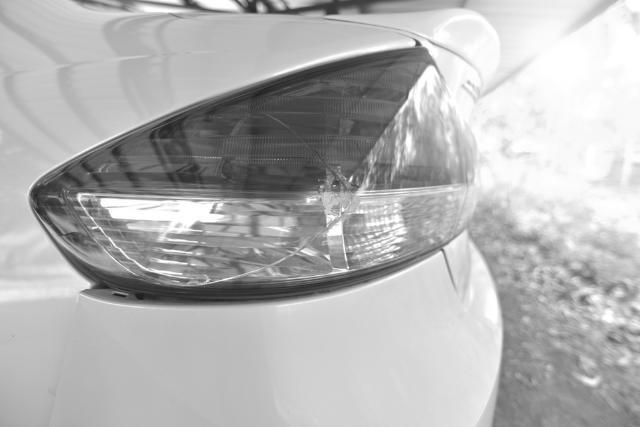Light: (62, 55, 460, 266)
